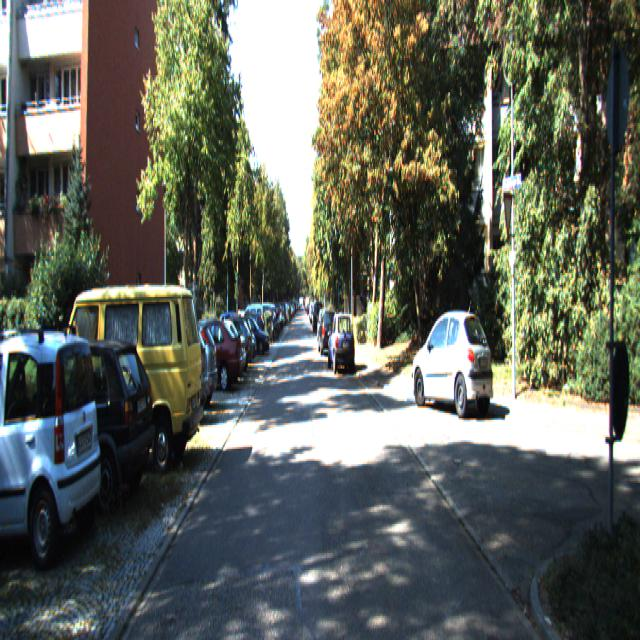Car: (58, 280, 205, 479), (0, 328, 156, 514), (0, 315, 106, 564), (412, 300, 496, 415), (128, 320, 210, 428), (143, 321, 220, 418), (178, 318, 244, 394), (328, 312, 356, 374), (318, 309, 338, 357)
